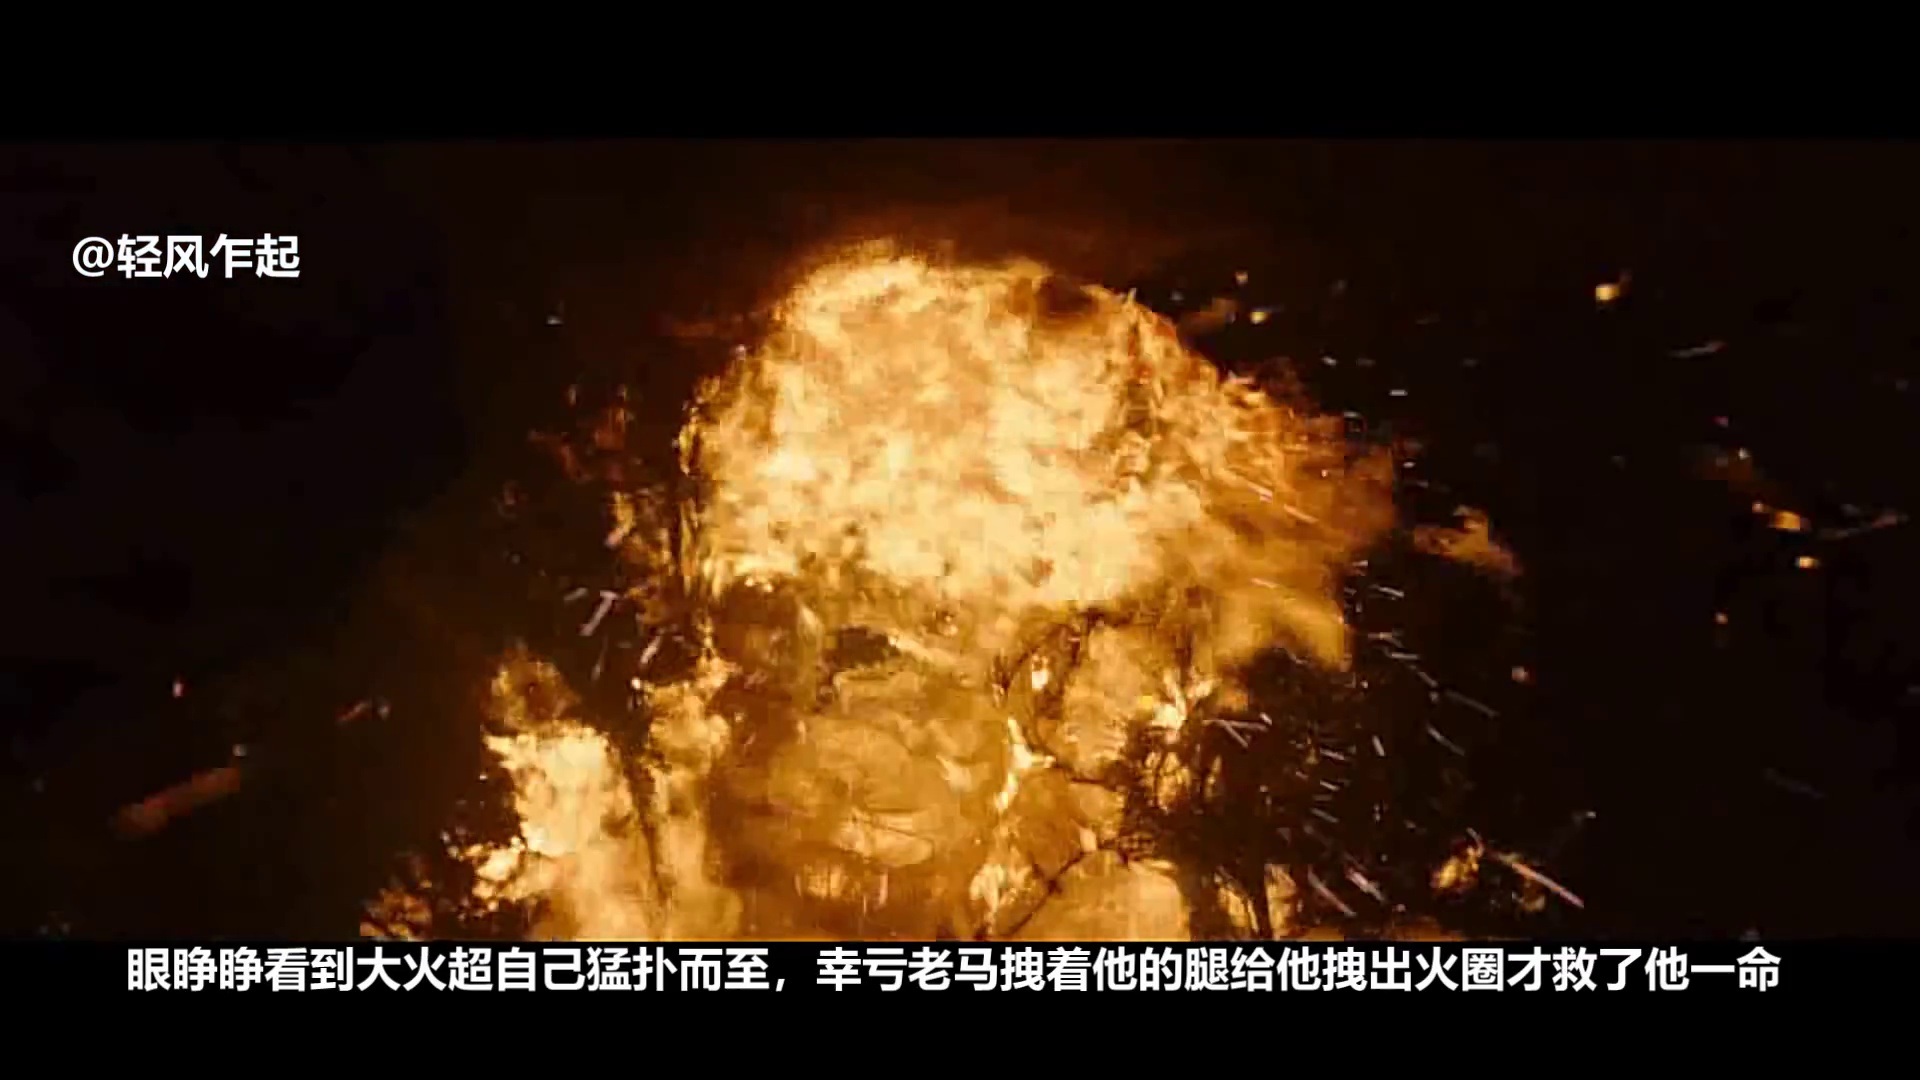fire: (669, 241, 1292, 624), (487, 728, 673, 938)
